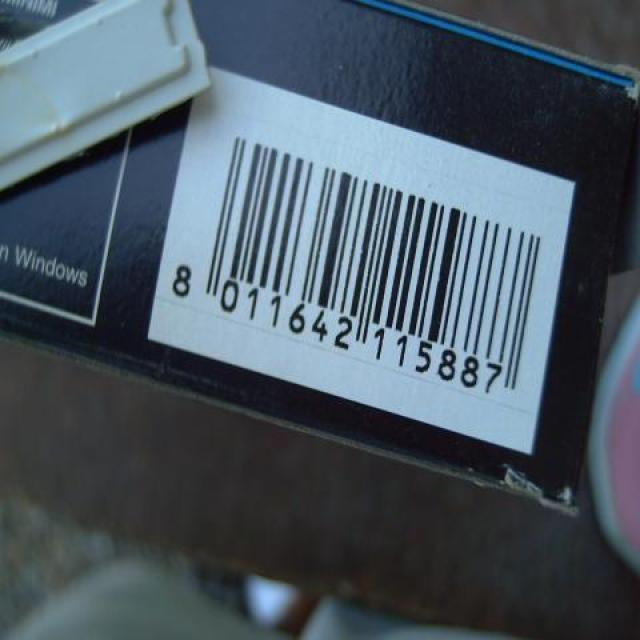Barcode: (148, 63, 576, 454)
